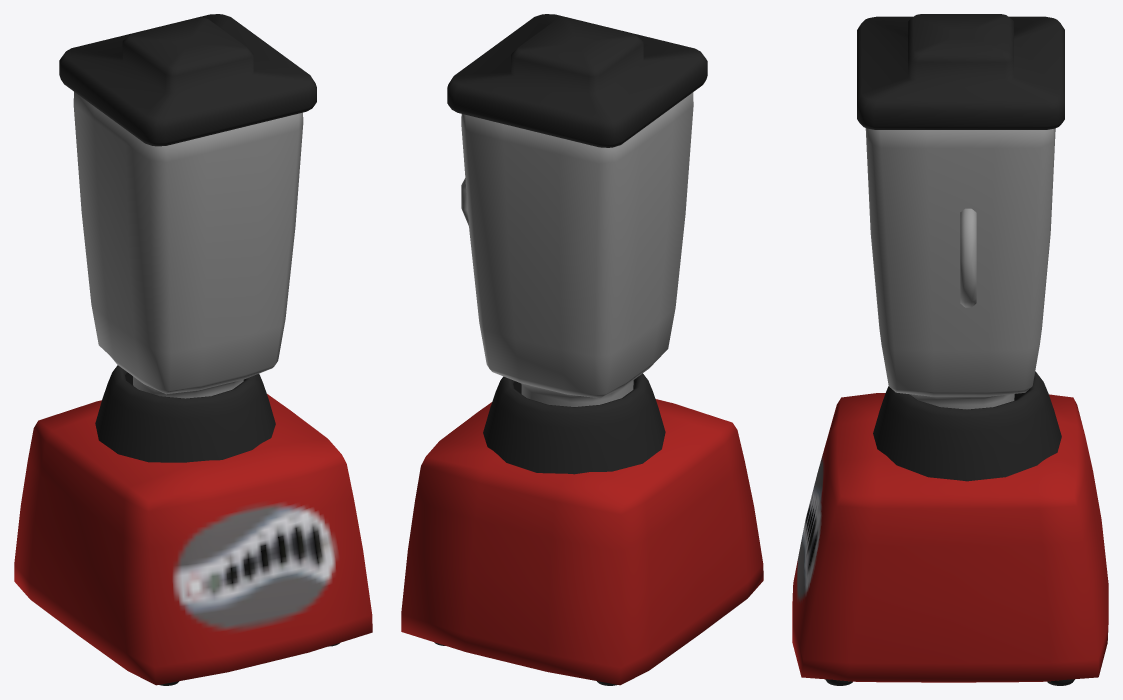
The model's file is Licuadora.obj.
The picture shows the model from 3 angles, left to right: view 1: azimuth 30°, elevation 25°; view 2: azimuth 150°, elevation 25°; view 3: azimuth 270°, elevation 25°; orthographic projection. The views are drawn at different scales.
Parts seen in each view (by area): view 1: Licuadora_Licuadora_Cube.000; view 2: Licuadora_Licuadora_Cube.000; view 3: Licuadora_Licuadora_Cube.000.
Boxes of the visible parts, <box> form: Licuadora_Licuadora_Cube.000: <box>14,14,372,685</box>; Licuadora_Licuadora_Cube.000: <box>401,14,763,685</box>; Licuadora_Licuadora_Cube.000: <box>792,14,1108,685</box>.
Size of the model in its own units: 0.4441 by 1.05 by 0.4965.
